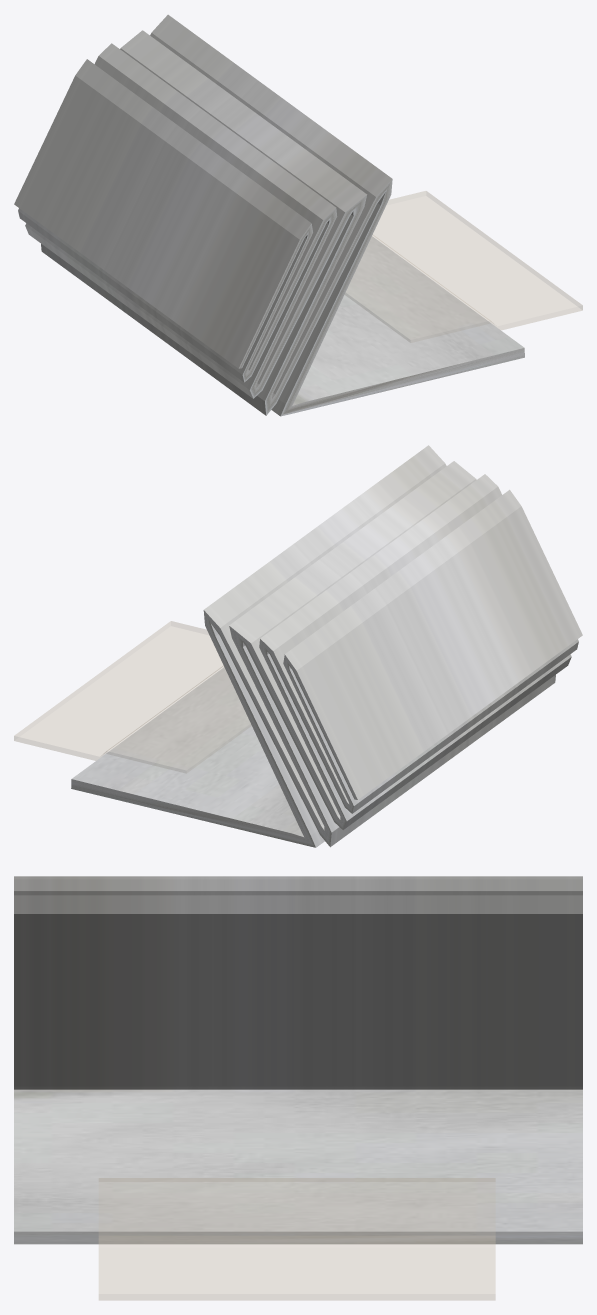
File: paper_bridge_accordian.fbx
3 renders of one model, top to bottom at view 1: azimuth 30°, elevation 25°; view 2: azimuth 150°, elevation 25°; view 3: azimuth 270°, elevation 25°, orthographic. The views are drawn at different scales.
Visible parts, largest first — view 1: tape, paper.bridge; view 2: tape, paper.bridge; view 3: tape, paper.bridge.
Part boxes in pixels (bbox=[...]): tape: bbox=[14, 14, 524, 416]; paper.bridge: bbox=[345, 191, 582, 342]; tape: bbox=[71, 445, 582, 847]; paper.bridge: bbox=[14, 621, 251, 772]; tape: bbox=[14, 876, 582, 1244]; paper.bridge: bbox=[99, 1178, 495, 1300].
Size of the model in its own units: 386 by 206 by 398.
